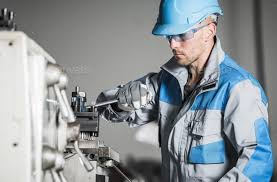Person_wearing_helmet: (149, 0, 230, 44)
